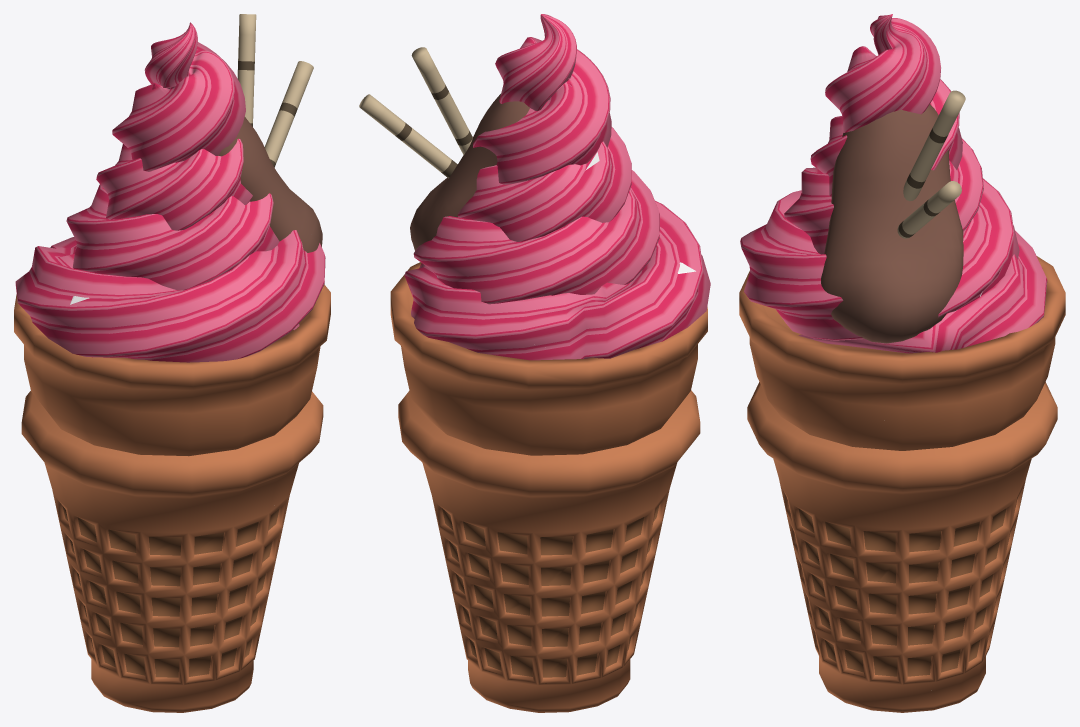
The model's file is icecream-2_rootss66.fbx.
The picture shows the model from 3 angles, left to right: view 1: azimuth 30°, elevation 25°; view 2: azimuth 150°, elevation 25°; view 3: azimuth 270°, elevation 25°; orthographic projection. The views are drawn at different scales.
Visible parts, largest first — view 1: icecream_2_sh_50, icecream_2_sh_45, icecream_2_sh_22, icecream_2_sh_49, icecream_2_sh_20, icecream_2_sh_32, icecream_2_sh_39, icecream_2_sh_41, icecream_2_sh_14, icecream_2_sh_3, icecream_2_sh_57, icecream_2_sh_8 (+23 smaller); view 2: icecream_2_sh_51, icecream_2_sh_34, icecream_2_sh_25, icecream_2_sh_50, icecream_2_sh_24, icecream_2_sh_1, icecream_2_sh_26, icecream_2_sh_52, icecream_2_sh_42, icecream_2_sh_4, icecream_2_sh_3, icecream_2_sh_48 (+27 smaller); view 3: icecream_2_sh_44, icecream_2_sh_43, icecream_2_sh_36, icecream_2_sh_57, icecream_2_sh_41, icecream_2_sh_50, icecream_2_sh_51, icecream_2_sh_58, icecream_2_sh_53, icecream_2_sh_11, icecream_2_sh_47, icecream_2_sh_31 (+24 smaller).
Part boxes in pixels (left/top/right/bottom): icecream_2_sh_50: left=44, top=463, right=288, bottom=685; icecream_2_sh_45: left=24, top=419, right=278, bottom=546; icecream_2_sh_22: left=43, top=275, right=297, bottom=362; icecream_2_sh_49: left=80, top=588, right=221, bottom=712; icecream_2_sh_20: left=141, top=149, right=262, bottom=279; icecream_2_sh_32: left=43, top=381, right=262, bottom=456; icecream_2_sh_39: left=32, top=334, right=285, bottom=409; icecream_2_sh_41: left=256, top=301, right=330, bottom=441; icecream_2_sh_14: left=84, top=214, right=163, bottom=277; icecream_2_sh_3: left=112, top=63, right=193, bottom=141; icecream_2_sh_57: left=241, top=135, right=315, bottom=252; icecream_2_sh_8: left=183, top=49, right=240, bottom=129; icecream_2_sh_51: left=402, top=425, right=611, bottom=601; icecream_2_sh_34: left=404, top=323, right=685, bottom=455; icecream_2_sh_25: left=448, top=213, right=648, bottom=304; icecream_2_sh_50: left=541, top=487, right=668, bottom=623; icecream_2_sh_24: left=477, top=262, right=665, bottom=359; icecream_2_sh_1: left=473, top=53, right=601, bottom=195; icecream_2_sh_26: left=468, top=167, right=618, bottom=241; icecream_2_sh_52: left=474, top=600, right=547, bottom=712; icecream_2_sh_42: left=544, top=601, right=615, bottom=712; icecream_2_sh_4: left=414, top=267, right=567, bottom=360; icecream_2_sh_3: left=518, top=51, right=610, bottom=149; icecream_2_sh_48: left=533, top=437, right=653, bottom=492; icecream_2_sh_44: left=852, top=426, right=1016, bottom=564; icecream_2_sh_43: left=854, top=562, right=991, bottom=703; icecream_2_sh_36: left=823, top=331, right=1033, bottom=420; icecream_2_sh_57: left=821, top=161, right=963, bottom=323; icecream_2_sh_41: left=744, top=308, right=885, bottom=448; icecream_2_sh_50: left=780, top=484, right=889, bottom=661; icecream_2_sh_51: left=923, top=382, right=1057, bottom=579; icecream_2_sh_58: left=826, top=241, right=952, bottom=329; icecream_2_sh_53: left=754, top=407, right=877, bottom=533; icecream_2_sh_11: left=762, top=216, right=1010, bottom=338; icecream_2_sh_47: left=820, top=626, right=955, bottom=712; icecream_2_sh_31: left=878, top=374, right=1038, bottom=450.
Bounding box in the file's own units: 336 × 698 × 306.
2 materials, 1 textured.
